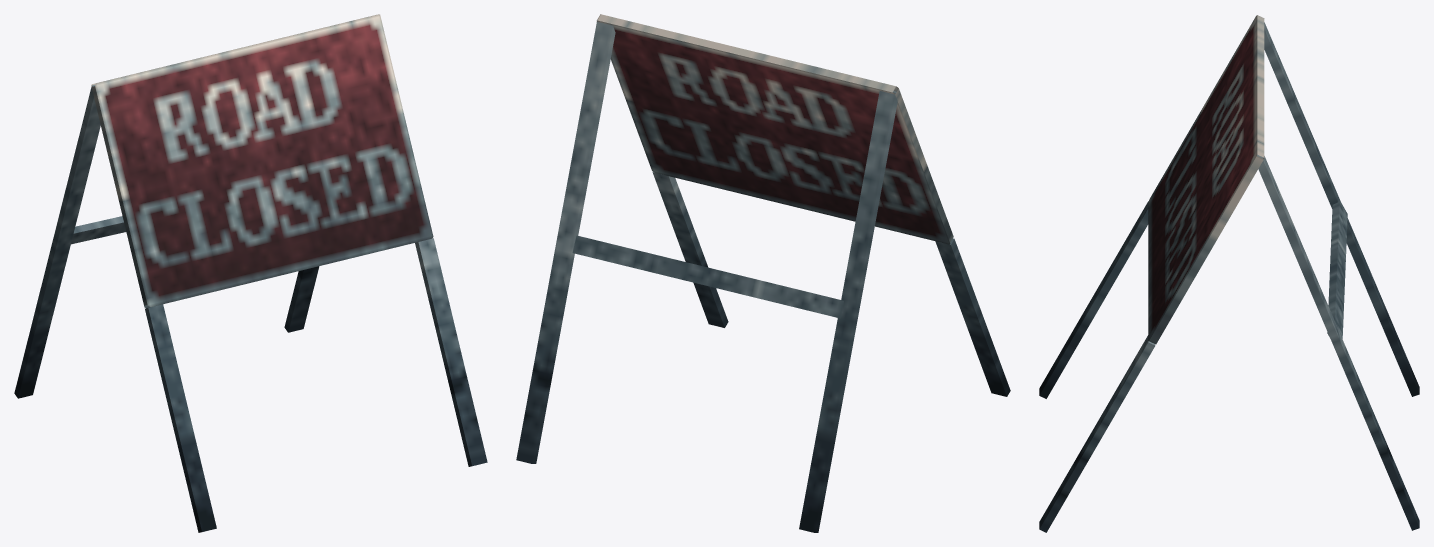
File: SM_EC_Traffic_RoacClosed_Sign_0.fbx
The picture shows the model from 3 angles, left to right: view 1: azimuth 30°, elevation 25°; view 2: azimuth 150°, elevation 25°; view 3: azimuth 270°, elevation 25°; orthographic projection. The views are drawn at different scales.
Parts seen in each view (by area): view 1: SM_EC_Traffic_RoacClosed_Sign_0; view 2: SM_EC_Traffic_RoacClosed_Sign_0; view 3: SM_EC_Traffic_RoacClosed_Sign_0.
Part boxes in pixels (<box>): SM_EC_Traffic_RoacClosed_Sign_0: <box>14,14,487,532</box>; SM_EC_Traffic_RoacClosed_Sign_0: <box>516,14,1010,532</box>; SM_EC_Traffic_RoacClosed_Sign_0: <box>1039,15,1419,532</box>.
Size of the model in its own units: 0.8249 by 0.9396 by 1.03.
